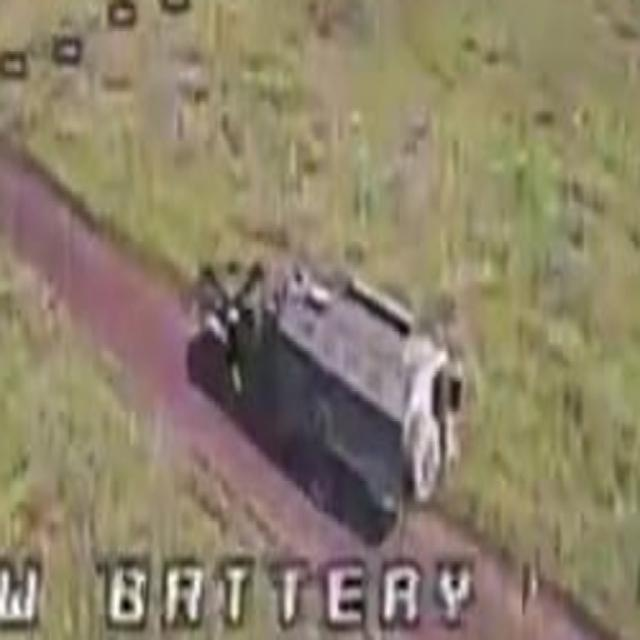TRUCK: (194, 250, 458, 536)
